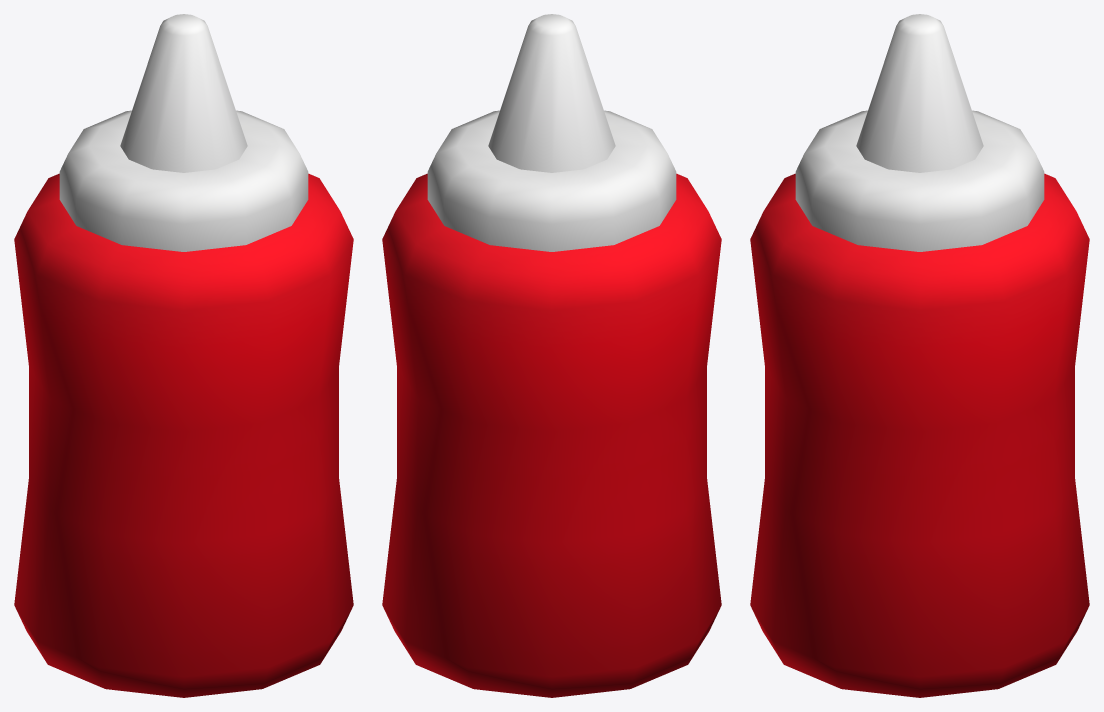
Rendered from Condiment_Ketchup_01.fbx.
The picture shows the model from 3 angles, left to right: view 1: azimuth 30°, elevation 25°; view 2: azimuth 150°, elevation 25°; view 3: azimuth 270°, elevation 25°; orthographic projection.
Parts seen in each view (by area): view 1: Condiment_Ketchup_01; view 2: Condiment_Ketchup_01; view 3: Condiment_Ketchup_01.
Part boxes in pixels (left/top/right/bottom): Condiment_Ketchup_01: left=14, top=14, right=353, bottom=697; Condiment_Ketchup_01: left=382, top=14, right=721, bottom=697; Condiment_Ketchup_01: left=750, top=14, right=1089, bottom=697.
Size of the model in its own units: 23.99 by 48.46 by 23.99.
